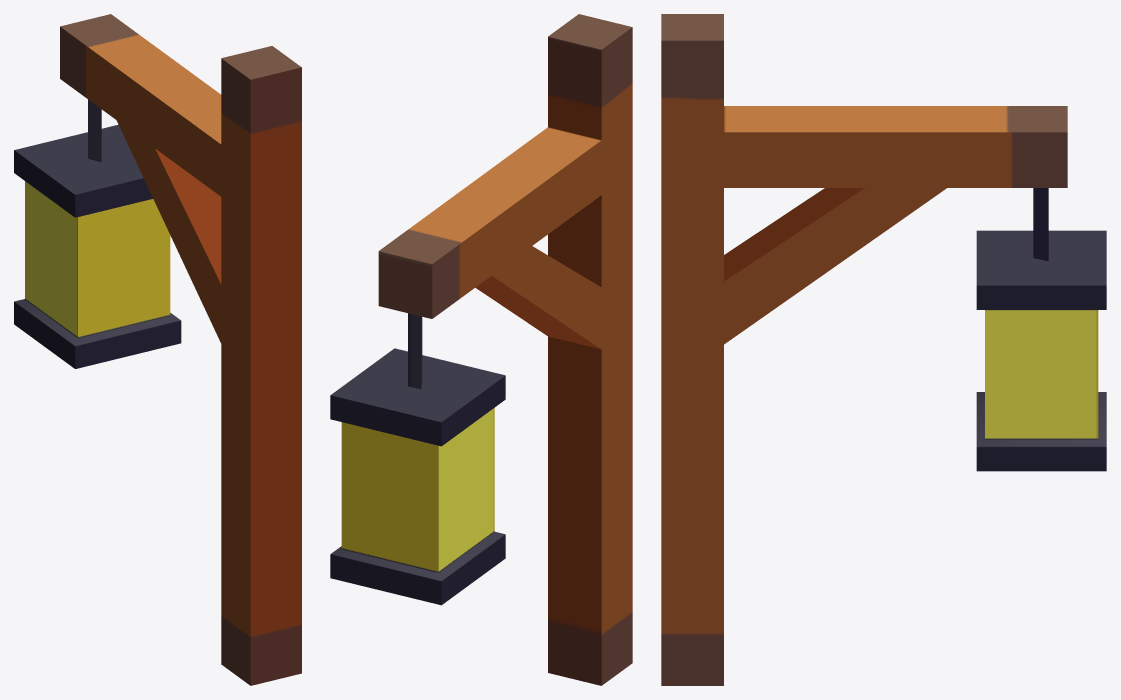
File: Pirate_Ship_We_Lamp_001.FBX
3 views of the same model, side by side, from view 1: azimuth 30°, elevation 25°; view 2: azimuth 150°, elevation 25°; view 3: azimuth 270°, elevation 25° (orthographic). The views are drawn at different scales.
Visible parts, largest first — view 1: Pirate_Ship_We_Lamp_001; view 2: Pirate_Ship_We_Lamp_001; view 3: Pirate_Ship_We_Lamp_001.
Boxes of the visible parts, left/top/right/bottom form: Pirate_Ship_We_Lamp_001: left=14, top=14, right=301, bottom=685; Pirate_Ship_We_Lamp_001: left=330, top=14, right=632, bottom=685; Pirate_Ship_We_Lamp_001: left=661, top=14, right=1106, bottom=685.
Bounding box in the file's own units: 0.7289 × 3.99 × 2.49.
